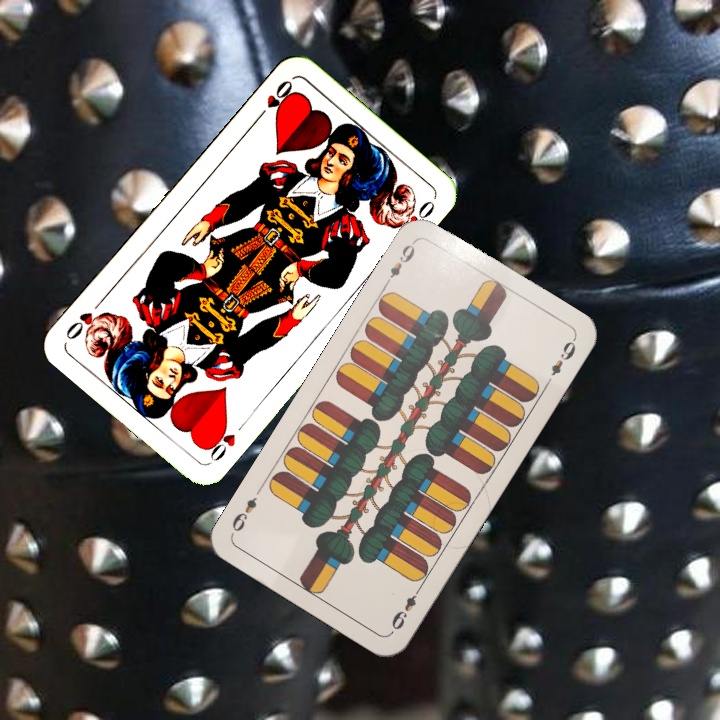E9: (387, 582, 425, 635), (381, 236, 419, 289)
HO: (252, 76, 296, 124), (201, 420, 239, 464)
